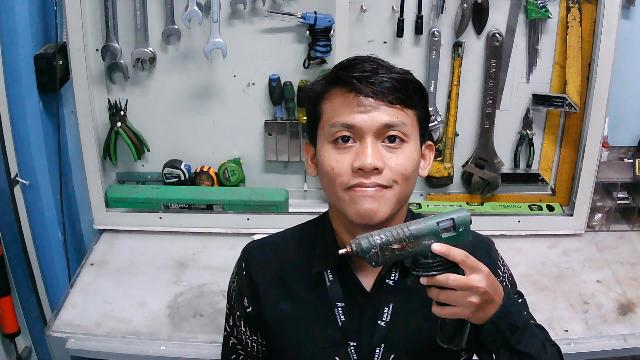gun_lem: (337, 208, 483, 296)
